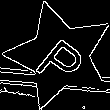P_NE: (29, 24, 92, 87)
